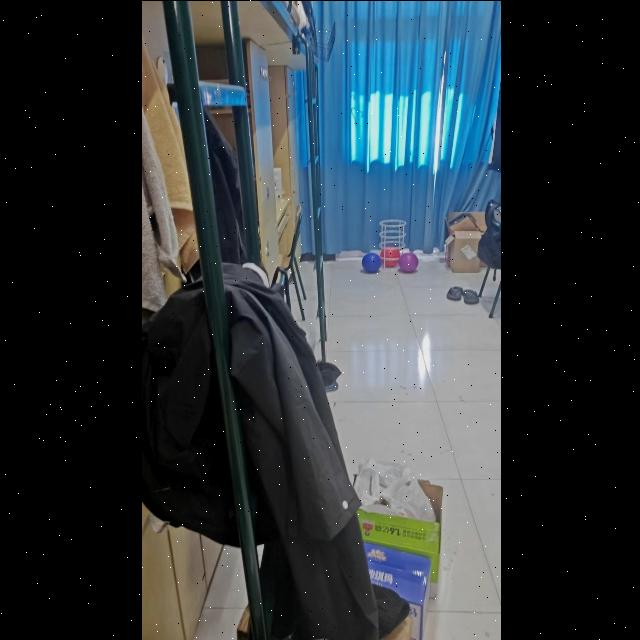B: (358, 252, 380, 274)
P: (398, 252, 418, 272)
R: (382, 246, 400, 264)
S: (378, 217, 404, 265)
